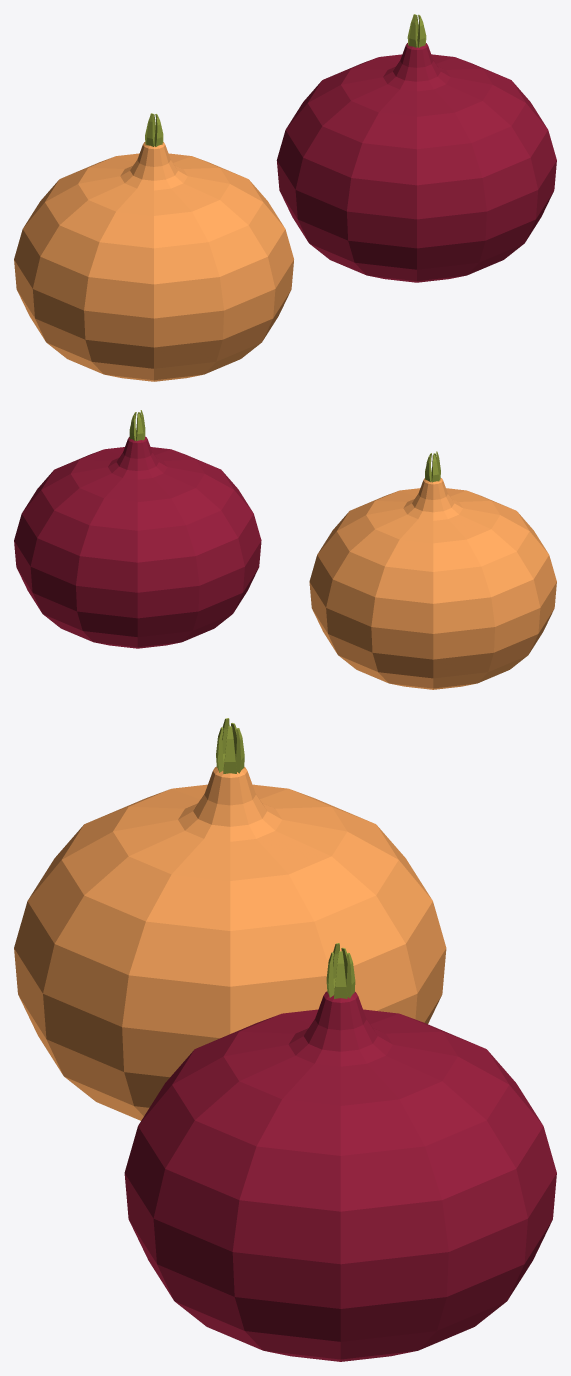
File: 37b5a361-5148-42f0-81d1-9e550bbb99e9.glb
3 renders of one model, top to bottom at view 1: azimuth 30°, elevation 25°; view 2: azimuth 150°, elevation 25°; view 3: azimuth 270°, elevation 25°, orthographic. The views are drawn at different scales.
Visible parts, largest first — view 1: Node; view 2: Node; view 3: Node.
Boxes of the visible parts, box(x1,y1,x2,y2) form: Node: box(14, 14, 556, 381); Node: box(14, 410, 556, 689); Node: box(14, 718, 556, 1361).
Size of the model in its own units: 4.55 by 2.05 by 2.56.
